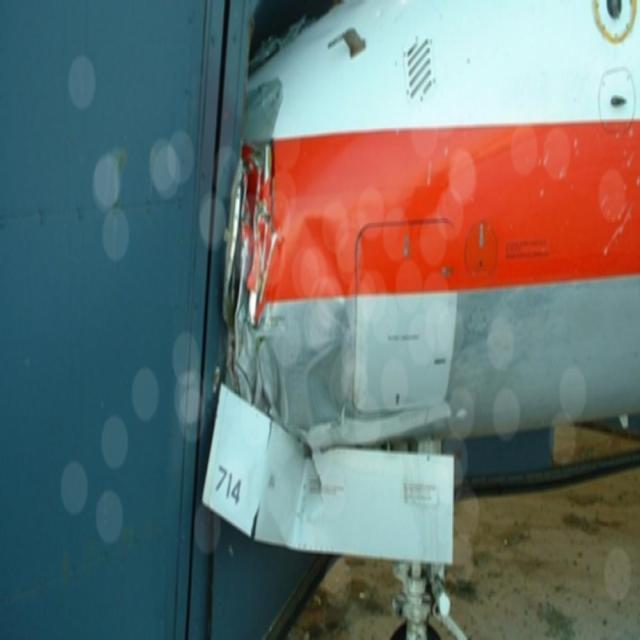dent: (295, 222, 352, 437)
